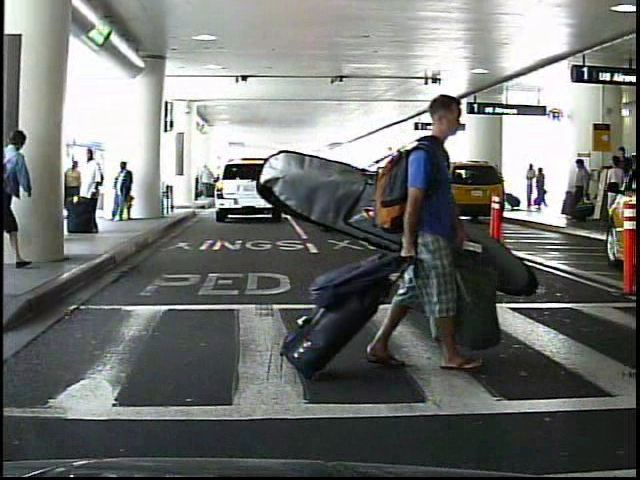person: (372, 81, 479, 380), (80, 146, 105, 237), (597, 154, 625, 231), (109, 160, 134, 226), (567, 157, 590, 225), (62, 158, 83, 231), (614, 142, 630, 228), (522, 162, 537, 210), (533, 167, 544, 211)
